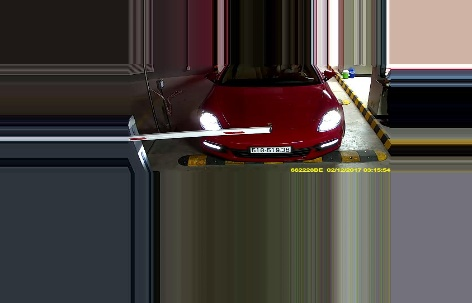plate: (249, 142, 293, 155)
